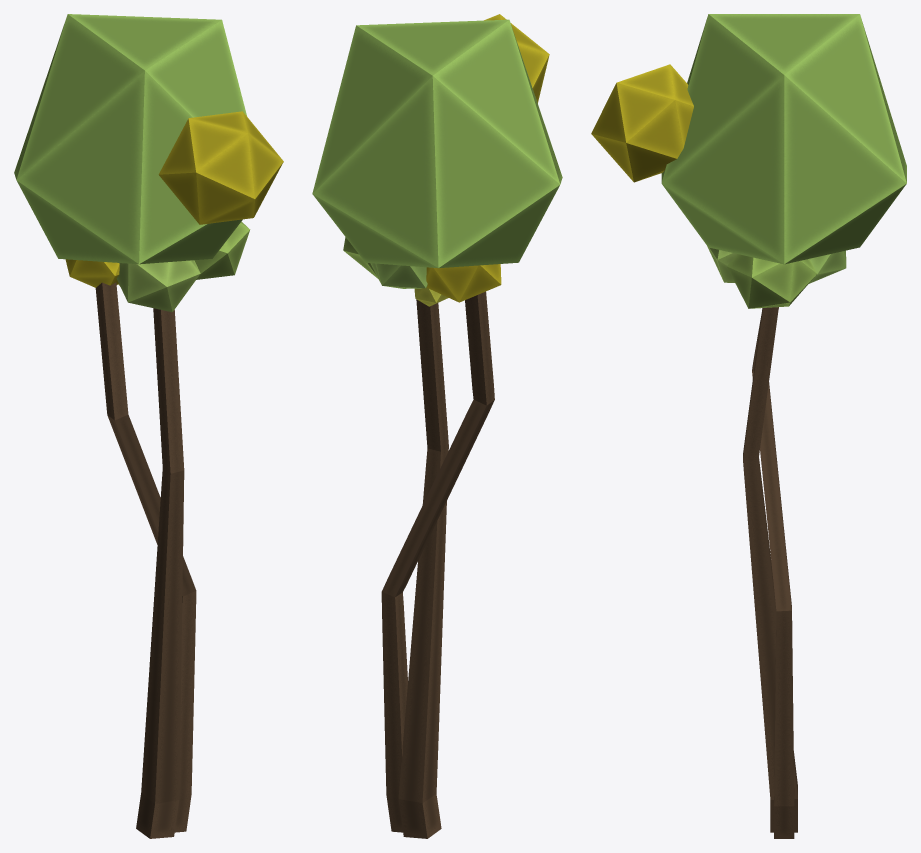
The model's file is Tree3.21116da7.glb.
The picture shows the model from 3 angles, left to right: view 1: azimuth 30°, elevation 25°; view 2: azimuth 150°, elevation 25°; view 3: azimuth 270°, elevation 25°; orthographic projection.
Parts seen in each view (by area): view 1: Icosphere; view 2: Icosphere; view 3: Icosphere.
Part boxes in pixels (bbox=[...]): Icosphere: bbox=[14, 14, 283, 838]; Icosphere: bbox=[312, 14, 562, 838]; Icosphere: bbox=[591, 14, 906, 838].
Bounding box in the file's own units: 6.18 × 19.19 × 6.96.
1 material, 1 textured.
